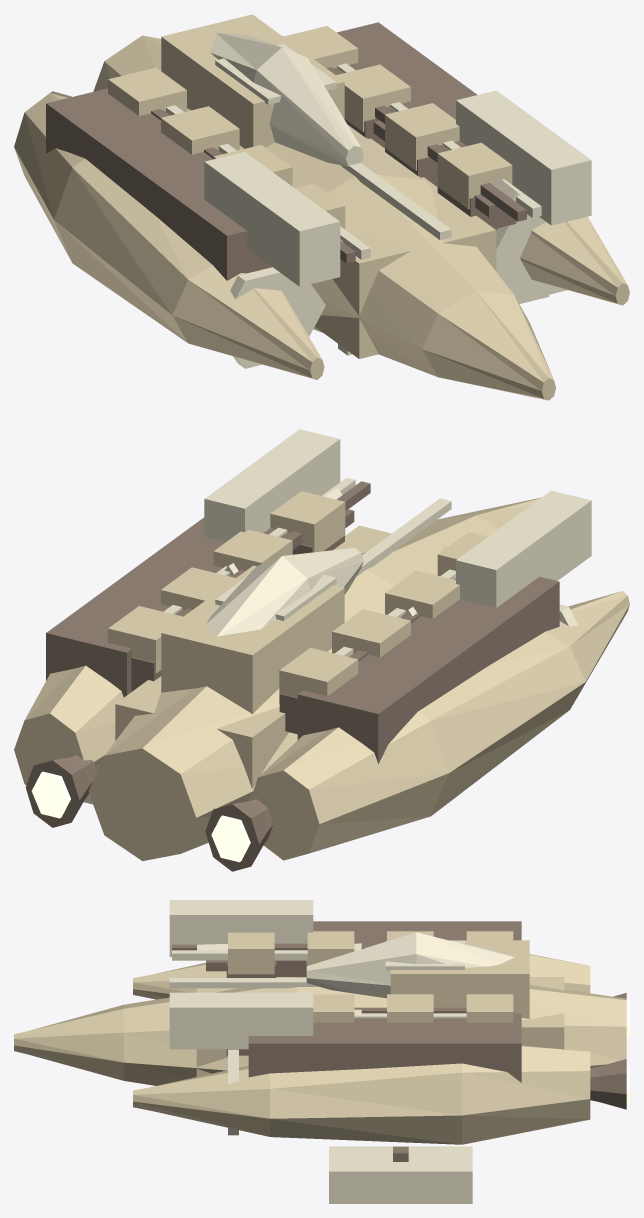
3 renders of one model, top to bottom at view 1: azimuth 30°, elevation 25°; view 2: azimuth 150°, elevation 25°; view 3: azimuth 270°, elevation 25°, orthographic. The views are drawn at different scales.
Bounding box in the file's own units: 14.57 × 8.64 × 24.8.
